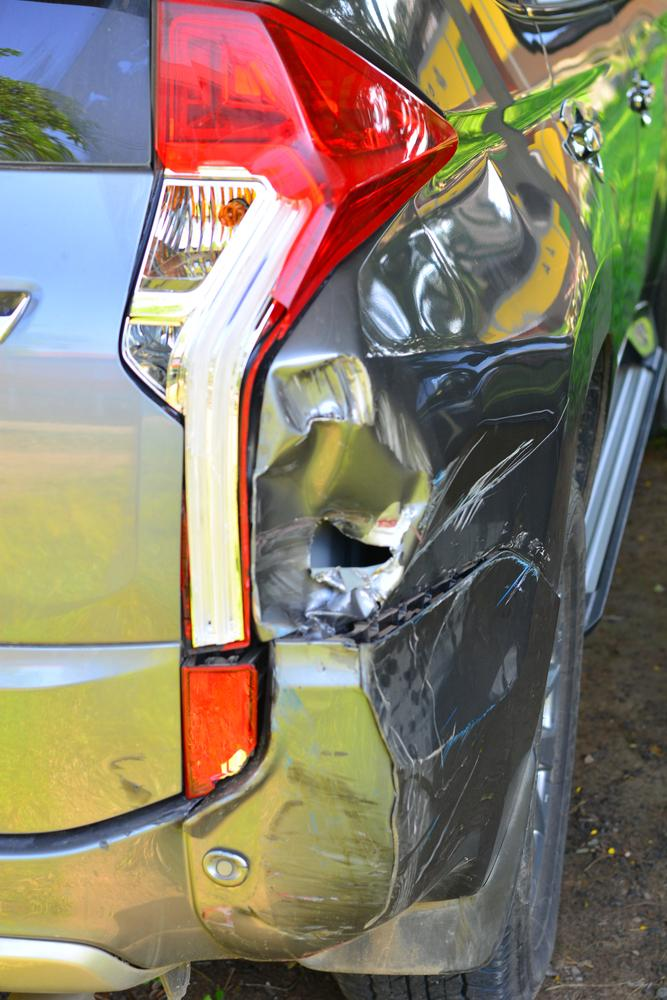dent: (263, 140, 578, 635)
lamp broken: (122, 0, 457, 649)
scratch: (289, 545, 532, 952)
